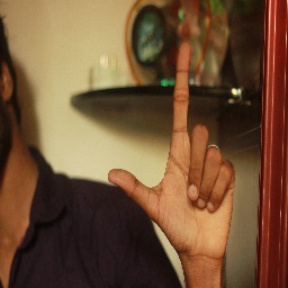L: (105, 37, 243, 265)
